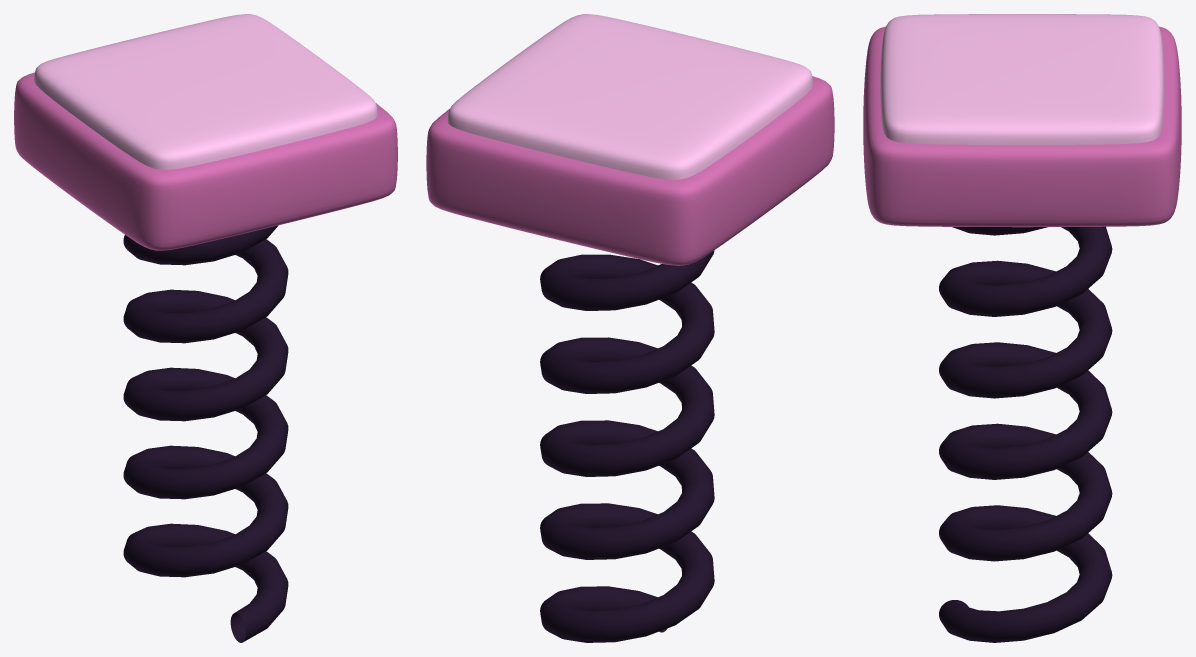
The model's file is JumpPad.fbx.
The picture shows the model from 3 angles, left to right: view 1: azimuth 30°, elevation 25°; view 2: azimuth 150°, elevation 25°; view 3: azimuth 270°, elevation 25°; orthographic projection. The views are drawn at different scales.
Parts seen in each view (by area): view 1: Spring, Pillow Topper, Pillow; view 2: Spring, Pillow Topper, Pillow; view 3: Spring, Pillow Topper, Pillow.
Part boxes in pixels (left/top/right/bottom): Spring: left=123, top=225, right=288, bottom=642; Pillow Topper: left=34, top=14, right=377, bottom=169; Pillow: left=14, top=72, right=397, bottom=250; Spring: left=540, top=250, right=714, bottom=642; Pillow Topper: left=447, top=14, right=813, bottom=179; Pillow: left=426, top=76, right=834, bottom=265; Spring: left=939, top=226, right=1112, bottom=642; Pillow Topper: left=880, top=14, right=1164, bottom=144; Pillow: left=863, top=26, right=1181, bottom=227.
Bounding box in the file's own units: 198 × 386 × 198.
